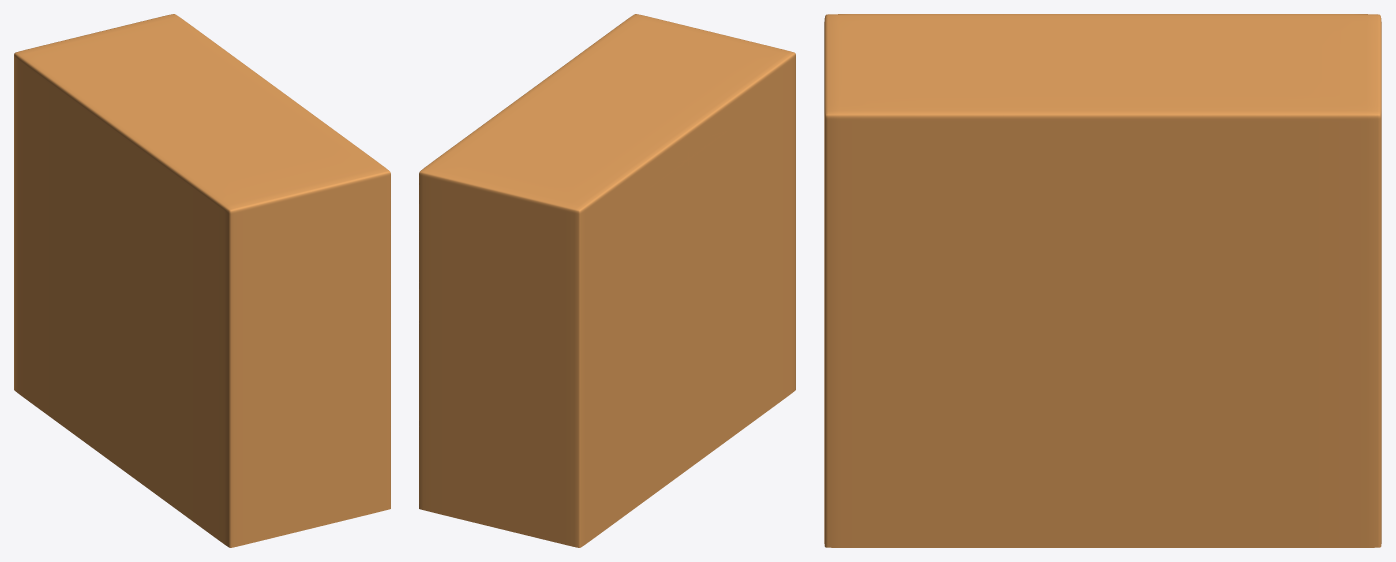
The model's file is BASE SIN AGUJERO.fbx.
The picture shows the model from 3 angles, left to right: view 1: azimuth 30°, elevation 25°; view 2: azimuth 150°, elevation 25°; view 3: azimuth 270°, elevation 25°; orthographic projection. The views are drawn at different scales.
Visible parts, largest first — view 1: Cube.039; view 2: Cube.039; view 3: Cube.039.
Part boxes in pixels (bbox=[...]): Cube.039: bbox=[14, 14, 390, 547]; Cube.039: bbox=[419, 14, 795, 547]; Cube.039: bbox=[824, 14, 1381, 547].
Size of the model in its own units: 689 by 1371 by 1596.
